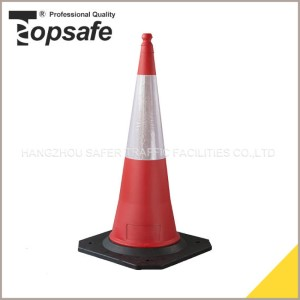traffic cone: (78, 33, 212, 271)
